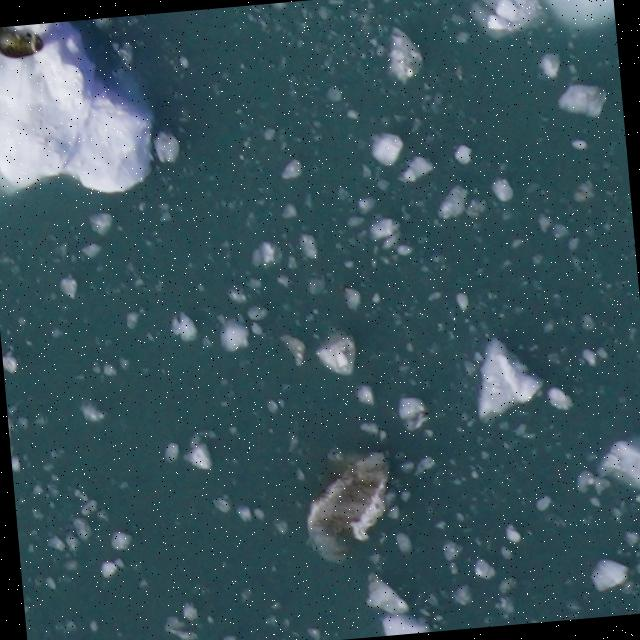seal: (0, 23, 49, 63)
